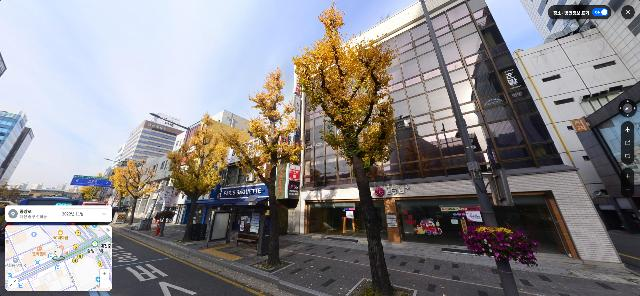ginkgo: (292, 0, 398, 296), (226, 65, 303, 269), (165, 113, 226, 244), (111, 159, 157, 226), (109, 162, 135, 219), (80, 173, 111, 203)
